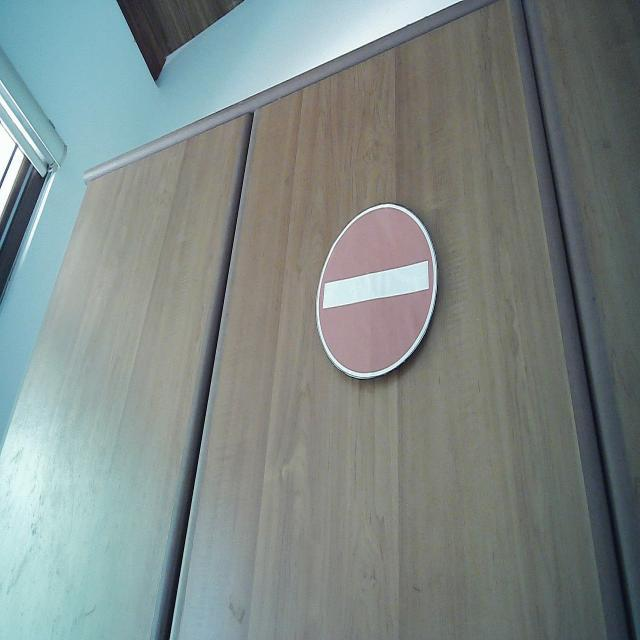no_entry: (314, 199, 440, 383)
